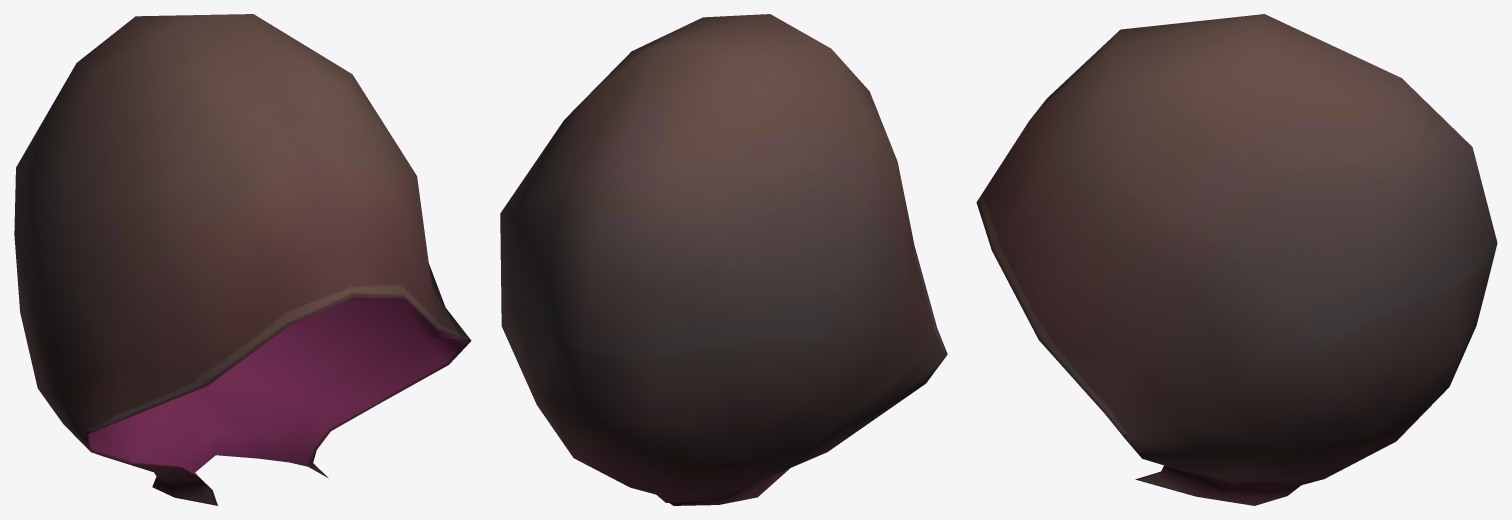
File: helm0080.fbx
3 renders of one model, left to right at view 1: azimuth 30°, elevation 25°; view 2: azimuth 150°, elevation 25°; view 3: azimuth 270°, elevation 25°, orthographic. The views are drawn at different scales.
Parts seen in each view (by area): view 1: helm0080_m; view 2: helm0080_m; view 3: helm0080_m.
Part boxes in pixels (left/top/right/bottom): helm0080_m: left=14, top=14, right=471, bottom=505; helm0080_m: left=500, top=14, right=947, bottom=505; helm0080_m: left=976, top=14, right=1497, bottom=505.
Size of the model in its own units: 0.4268 by 0.4828 by 0.5002.
